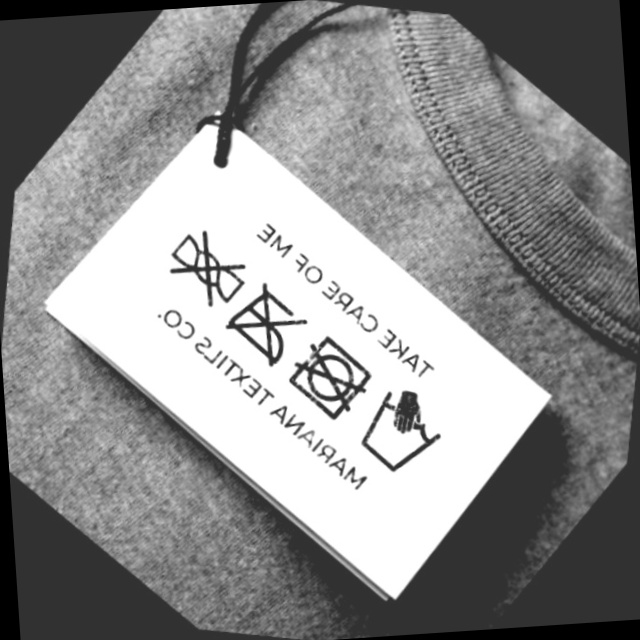DN_iron: (221, 276, 313, 372)
DN_tumble_dry: (285, 327, 383, 424)
DN_wring: (160, 220, 256, 312)
hand_wash: (351, 378, 453, 487)
